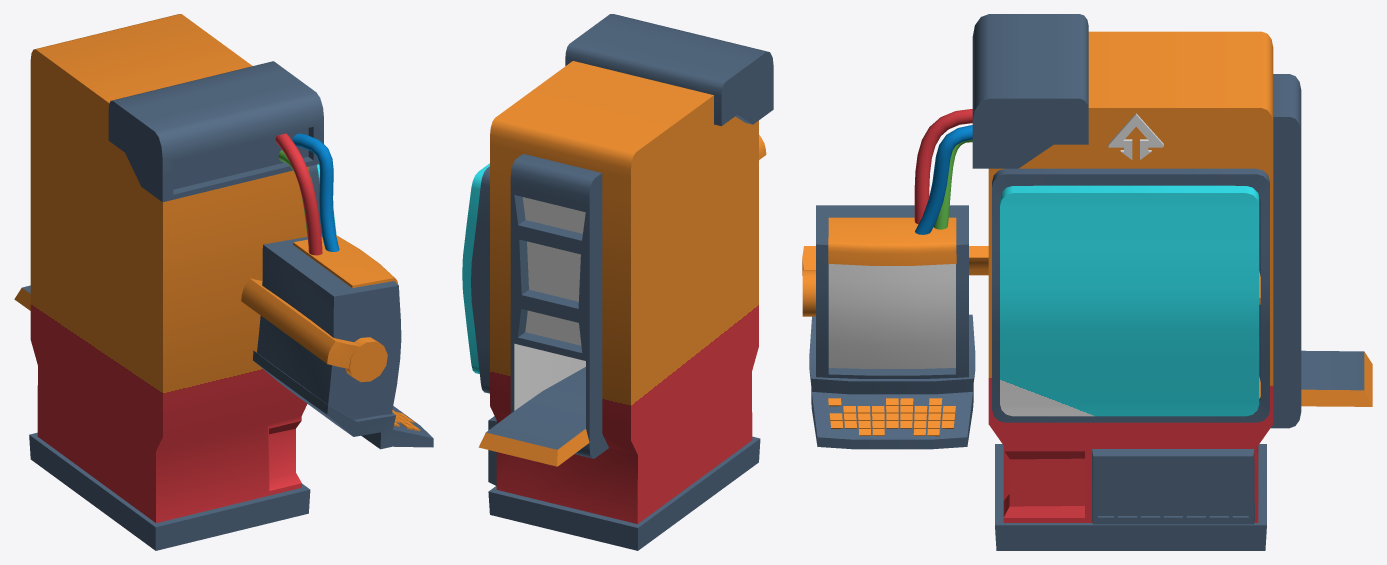
File: Refinador.fbx
3 renders of one model, left to right at view 1: azimuth 30°, elevation 25°; view 2: azimuth 150°, elevation 25°; view 3: azimuth 270°, elevation 25°, orthographic. The views are drawn at different scales.
Visible parts, largest first — view 1: Cube.059, Cube.064, Cube.071, Cube.066, NurbsPath.020, Cube.078, Cube.073, Cube.072, Cylinder.047; view 2: Cube.059, Cube.064, Cube.066, Cube.065, Cube.067, Cube.068; view 3: Cube.067, Cube.059, Cube.071, Cube.064, Cube.068, Cube.065, Cube.073, Cube.066, Cube.072, NurbsPath.020, Cube.079, Cube.080 (+1 smaller).
Part boxes in pixels (<box>): Cube.059: <box>14,14,308,523</box>; Cube.064: <box>108,61,323,202</box>; Cube.071: <box>257,234,401,419</box>; Cube.066: <box>29,432,310,550</box>; NurbsPath.020: <box>275,133,339,255</box>; Cube.078: <box>241,278,359,368</box>; Cube.073: <box>253,350,433,449</box>; Cube.072: <box>293,235,397,287</box>; Cylinder.047: <box>345,337,387,382</box>; Cube.059: <box>478,61,758,523</box>; Cube.064: <box>565,14,773,126</box>; Cube.066: <box>488,436,760,550</box>; Cube.065: <box>471,166,489,393</box>; Cube.067: <box>462,163,489,374</box>; Cube.068: <box>488,416,496,485</box>; Cube.067: <box>1000,185,1259,416</box>; Cube.059: <box>988,31,1372,522</box>; Cube.071: <box>816,205,968,378</box>; Cube.064: <box>972,14,1088,168</box>; Cube.068: <box>1092,449,1254,524</box>; Cube.065: <box>992,168,1269,422</box>; Cube.073: <box>809,314,975,449</box>; Cube.066: <box>995,444,1266,550</box>; Cube.072: <box>828,217,956,265</box>; NurbsPath.020: <box>914,109,972,234</box>; Cube.079: <box>828,398,955,436</box>; Cube.080: <box>1108,113,1163,159</box>.
Bounding box in the file's own units: 3.84 × 7.65 × 8.7.
